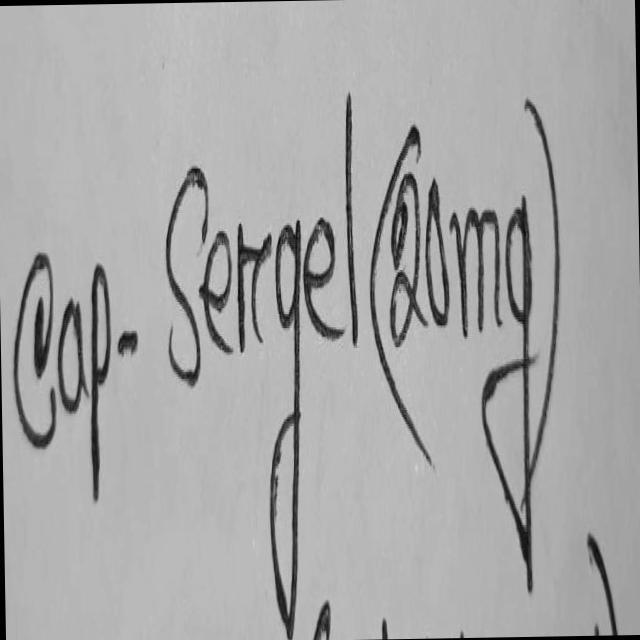0: (425, 176, 449, 321)
2: (391, 169, 427, 343)
C: (12, 250, 55, 446)
S: (165, 163, 207, 384)
a: (57, 296, 87, 410)
e: (304, 215, 344, 335), (199, 228, 232, 351)
g: (482, 195, 533, 588), (270, 218, 301, 638)
l: (345, 91, 357, 342)
m: (450, 205, 502, 334)
p: (90, 261, 110, 498)
r: (237, 221, 271, 348)
